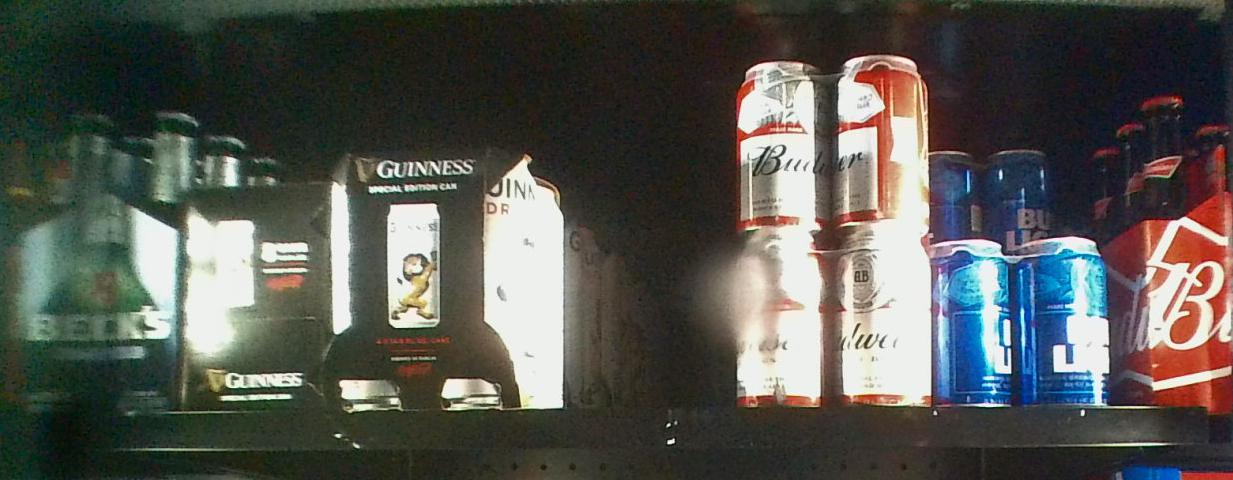bottle: (738, 51, 932, 408), (330, 145, 563, 409), (8, 109, 178, 417), (172, 183, 335, 412), (936, 238, 1117, 405)
